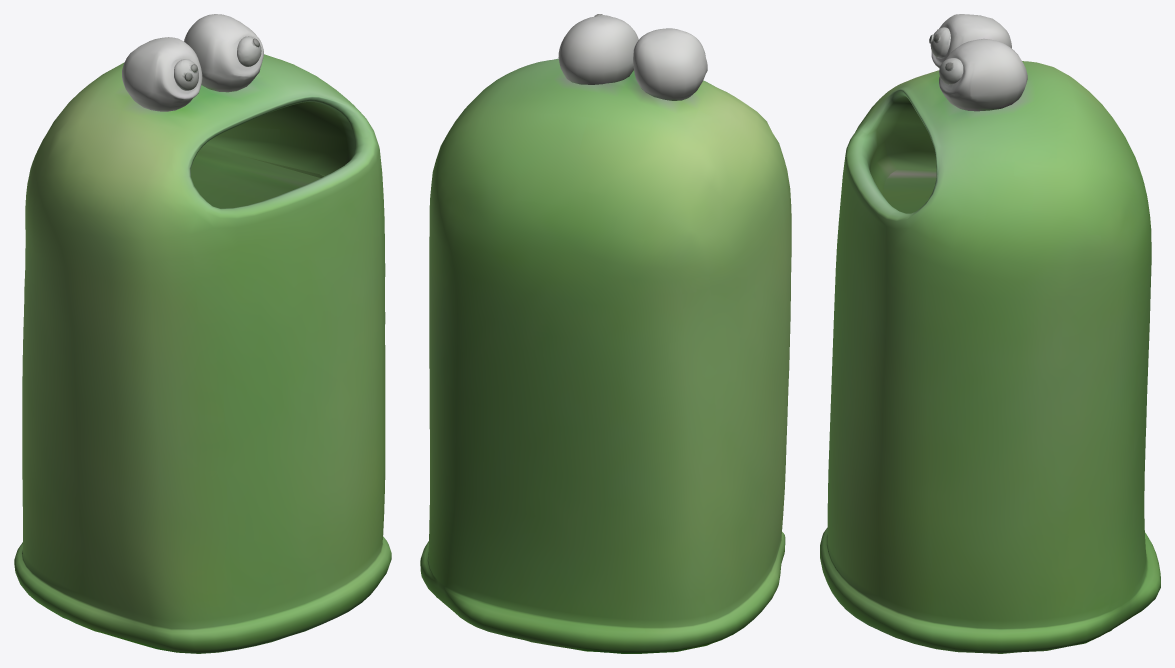
The model's file is green_bin.glb.
The picture shows the model from 3 angles, left to right: view 1: azimuth 30°, elevation 25°; view 2: azimuth 150°, elevation 25°; view 3: azimuth 270°, elevation 25°; orthographic projection. The views are drawn at different scales.
Parts seen in each view (by area): view 1: SM_green_bin; view 2: SM_green_bin; view 3: SM_green_bin.
Boxes of the visible parts, left/top/right/bottom form: SM_green_bin: left=14, top=14, right=391, bottom=653; SM_green_bin: left=420, top=14, right=791, bottom=653; SM_green_bin: left=820, top=14, right=1160, bottom=653.
Bounding box in the file's own units: 0.5965 × 1 × 0.5691.
